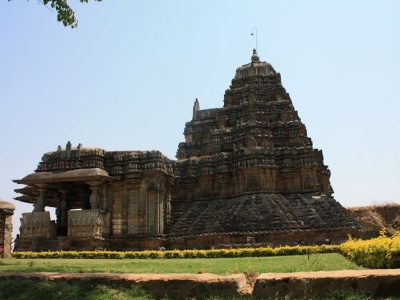mandapa: (6, 163, 110, 218)
